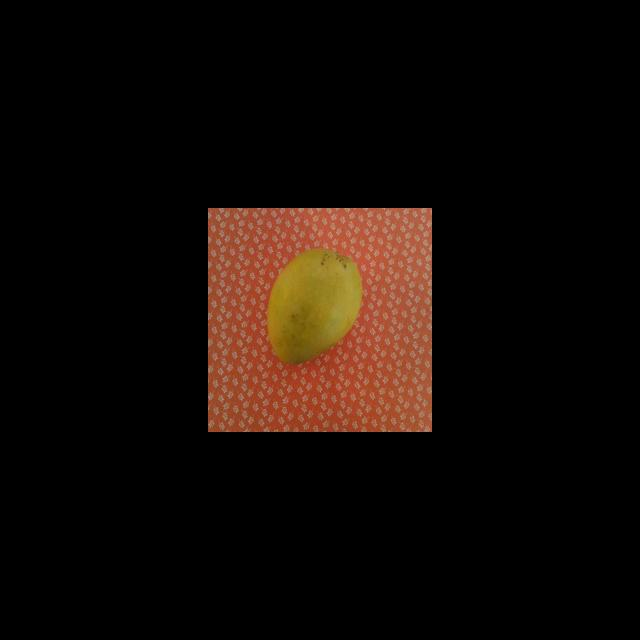Mango: (266, 247, 362, 364)
